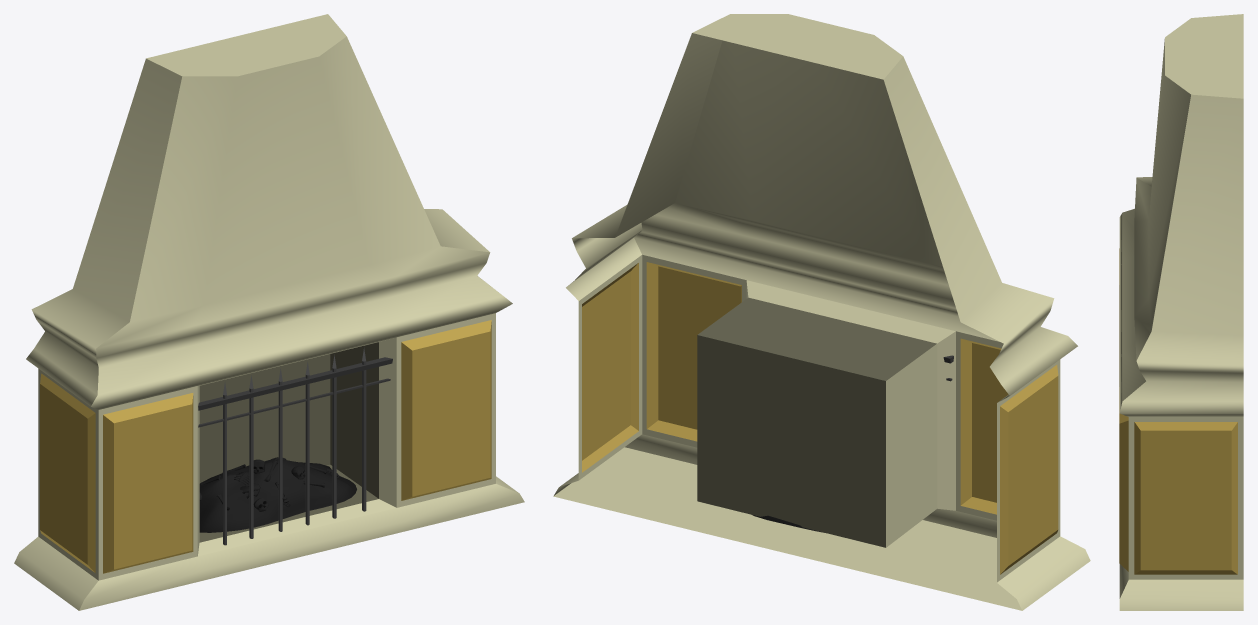
File: Chimenea.fbx
The picture shows the model from 3 angles, left to right: view 1: azimuth 30°, elevation 25°; view 2: azimuth 150°, elevation 25°; view 3: azimuth 270°, elevation 25°; orthographic projection. The views are drawn at different scales.
Parts seen in each view (by area): view 1: Chimenea; view 2: Chimenea; view 3: Chimenea.
Part boxes in pixels (x1=…): Chimenea: x1=14, y1=14, x2=524, y2=610; Chimenea: x1=553, y1=14, x2=1090, y2=610; Chimenea: x1=1119, y1=14, x2=1243, y2=610.
Size of the model in its own units: 506 by 512 by 128.
